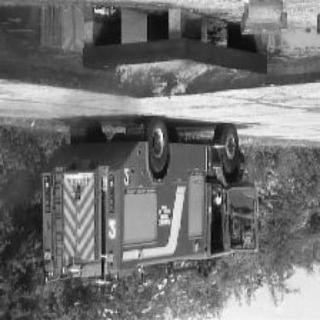Fire: (108, 60, 248, 96)
